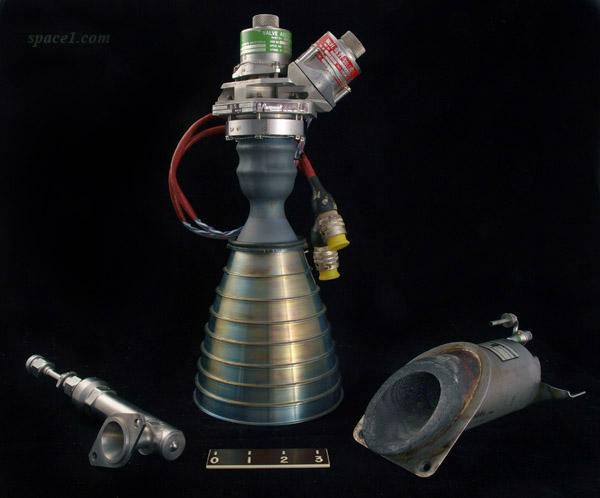thruster: (191, 213, 347, 428)
